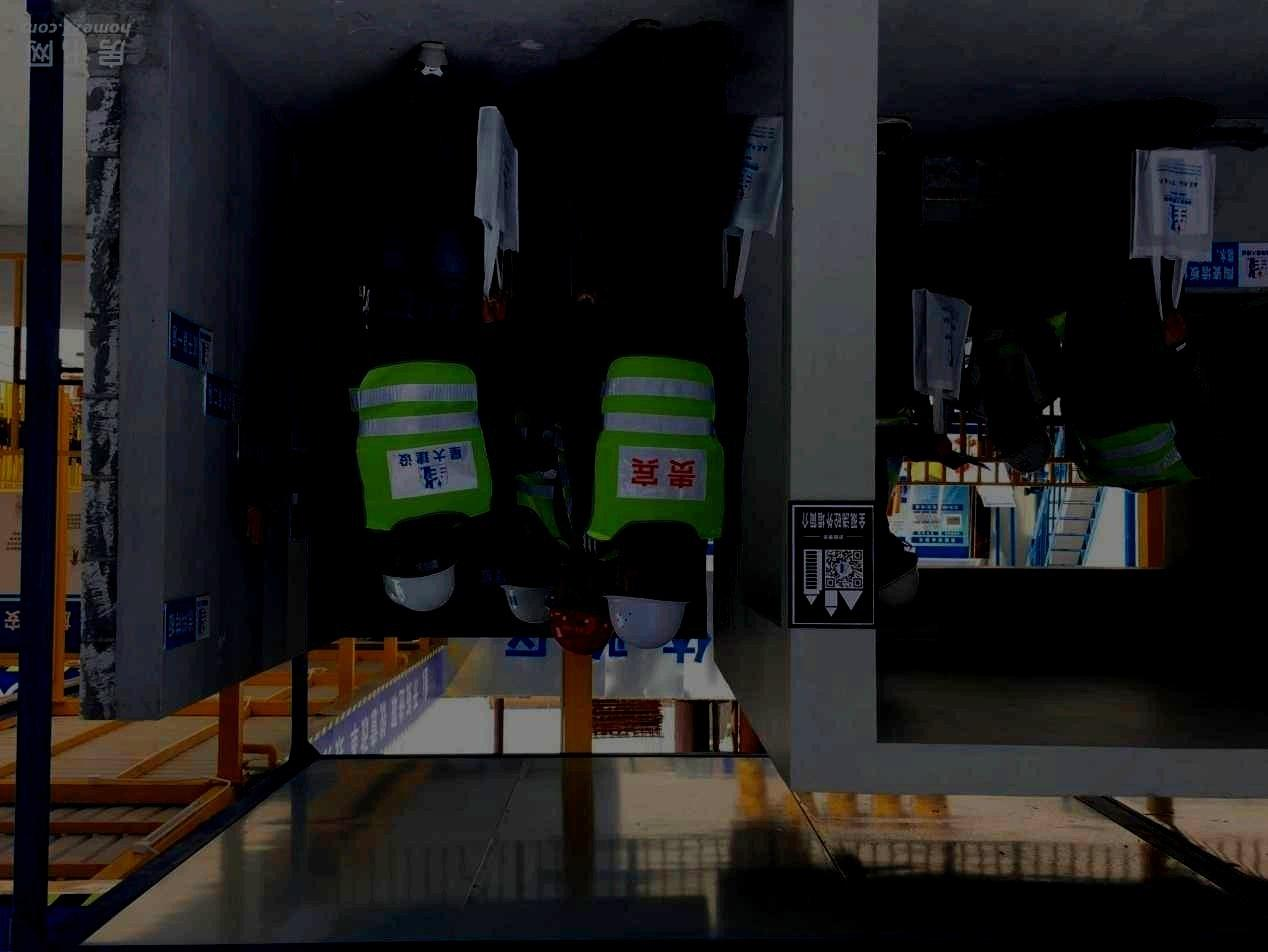helmet: (604, 535, 690, 649), (381, 527, 456, 612), (550, 591, 613, 654), (500, 560, 560, 625)
